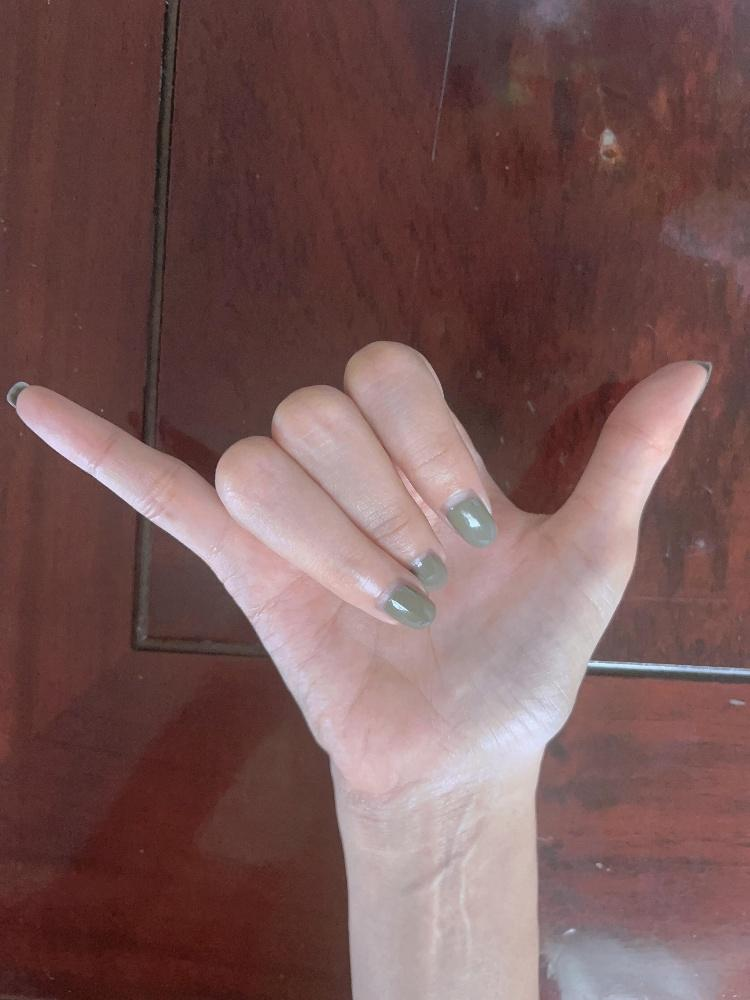y: (13, 328, 715, 751)
